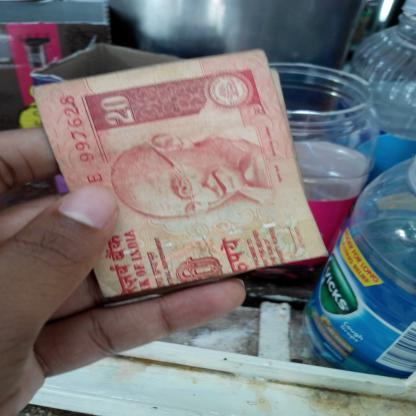Old20Front: (57, 59, 295, 288)
